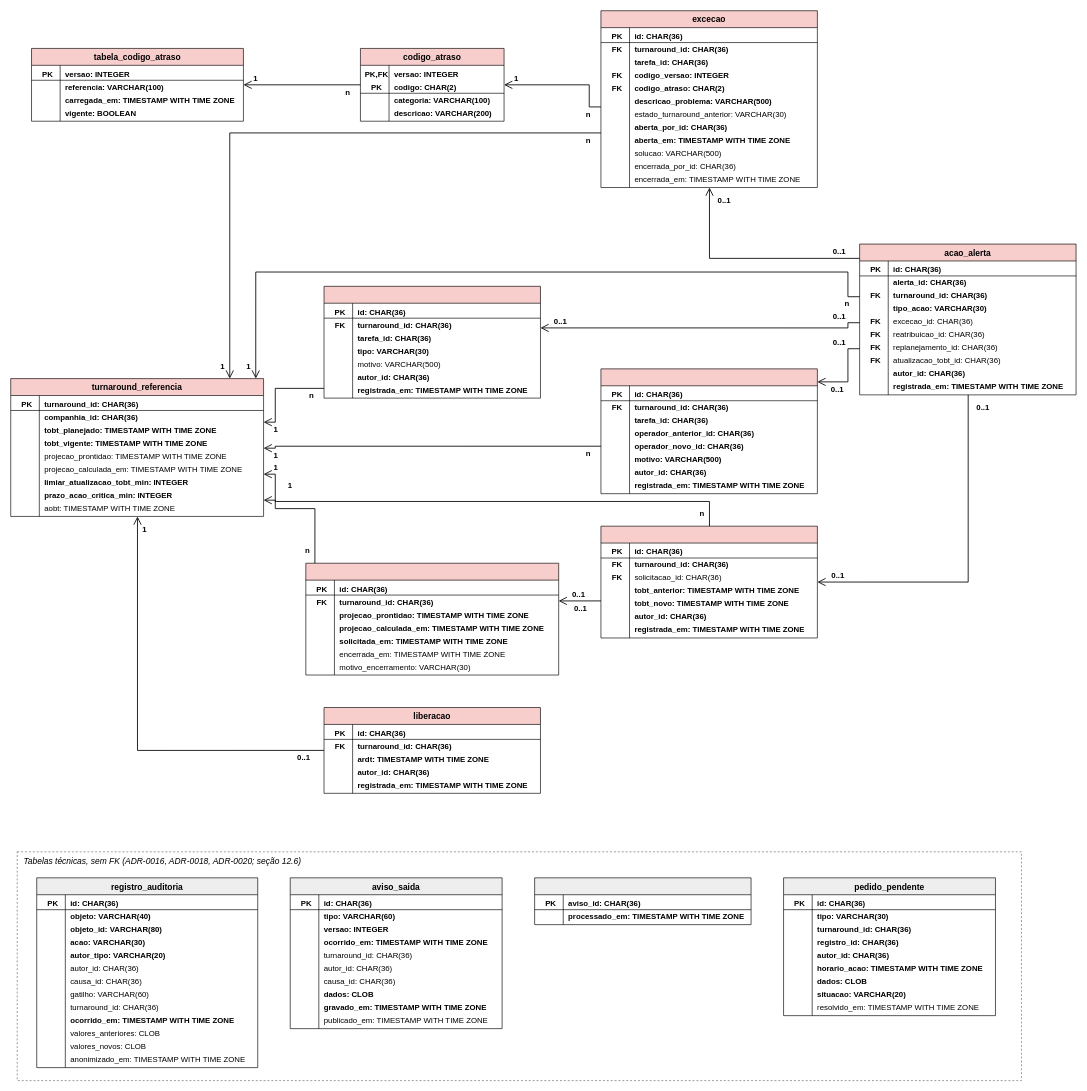
This 1087x1091 diagram has some shape labels left out. The box of each missing label's shape, as (x1, y1, x2, y2) in pixels:
atualizacao_tobt: (600, 526, 817, 638)
aviso_processado: (534, 877, 751, 925)
reatribuicao: (600, 368, 817, 494)
replanejamento: (323, 286, 540, 398)
solicitacao_atualizacao_tobt: (305, 563, 559, 675)
